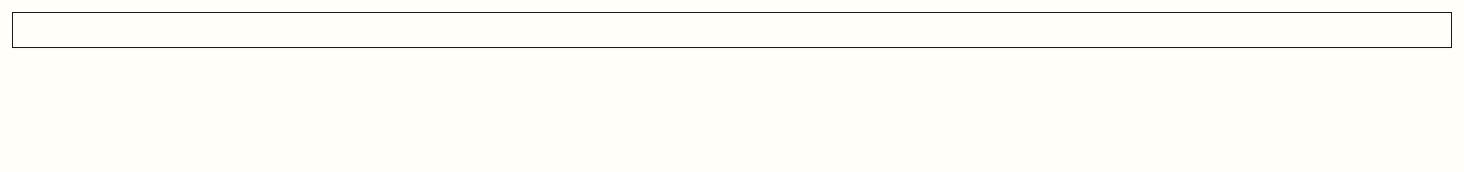
Test: MoneyInput › shows grouped digits but hands the raw number and name to onChange
Type "2500000" into the field named "Amount". click: (732, 30)
box: top-left (12, 12), bottom-right (1452, 48)
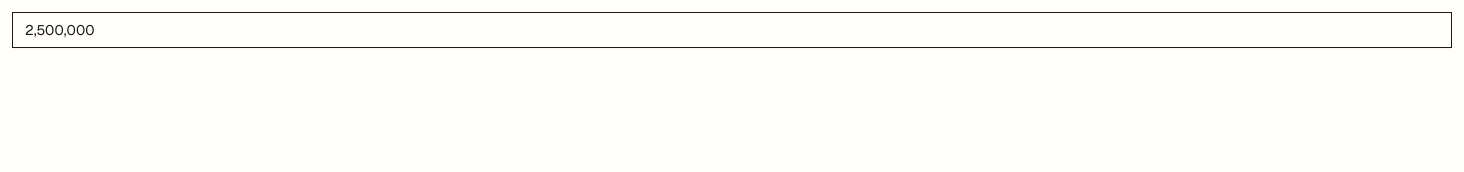
expect the field named "Amount" holds "2,500,000": met, box top-left (12, 12), bottom-right (1452, 48)
